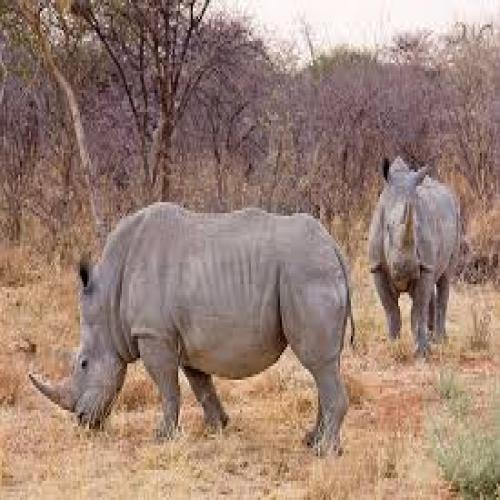rhino-endangered: (29, 200, 357, 456), (368, 156, 459, 359)
